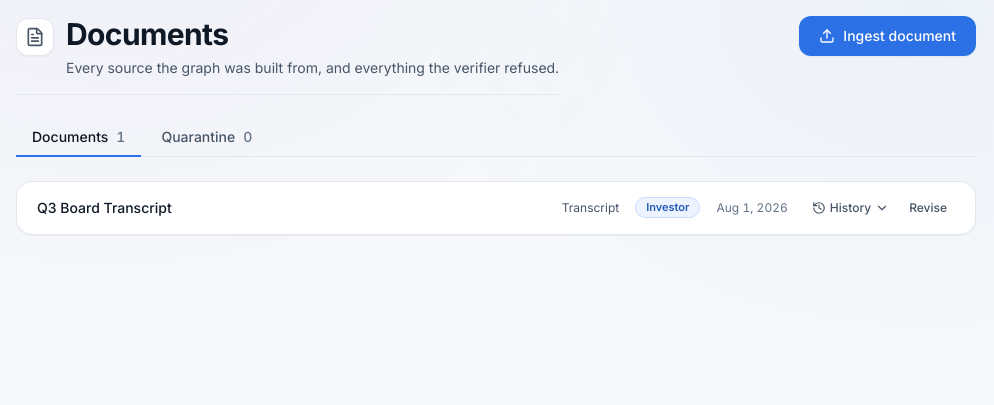
Test: the version chain › says the current revision is unknown rather than promoting a superseded one
Expected: the text "Q3 Board Transcript" is shown, [37, 198, 172, 216]
Click the button "History" at {"x": 850, "y": 208}, box [804, 196, 897, 220]
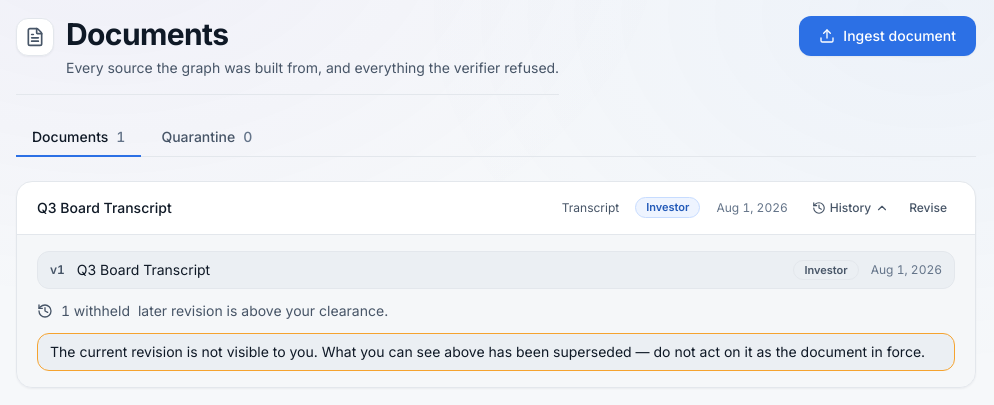
Expected: the text "current revision is not visible to you" is shown, [50, 343, 925, 360]
